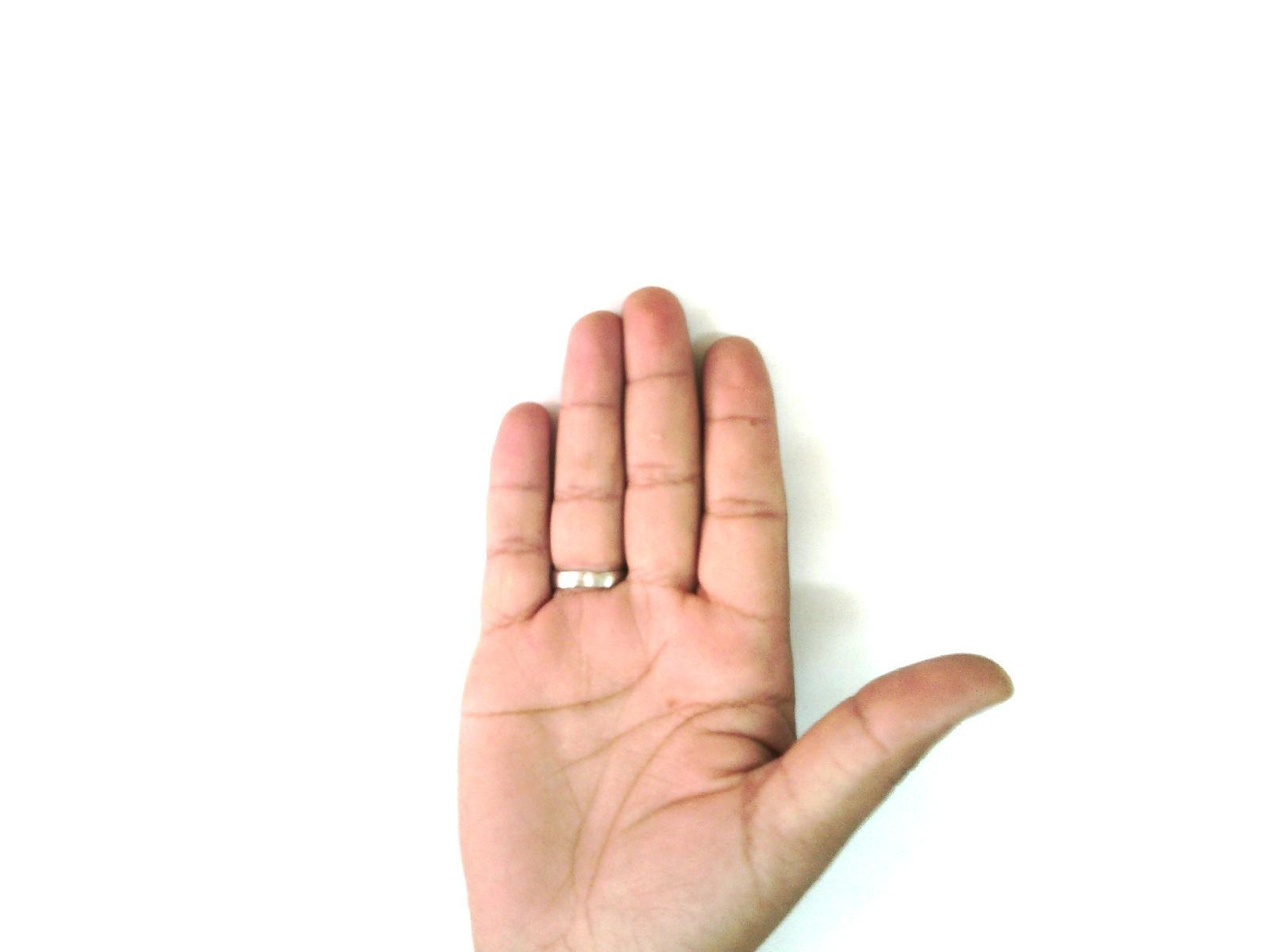open_palm: (453, 286, 1016, 951)
